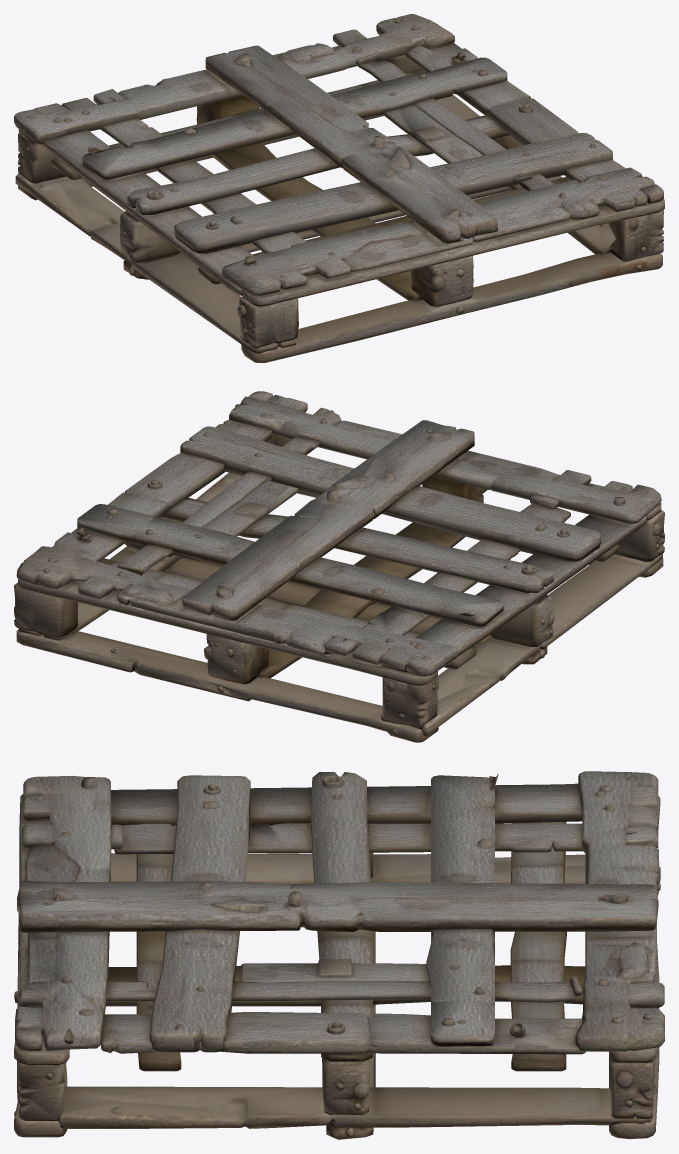
File: prop_pallet.glb
3 views of the same model, one above another, from view 1: azimuth 30°, elevation 25°; view 2: azimuth 150°, elevation 25°; view 3: azimuth 270°, elevation 25° (orthographic). The views are drawn at different scales.
Parts seen in each view (by area): view 1: tripo_node_0fa60221-b76e-457f-955f-115cdb6f22b1; view 2: tripo_node_0fa60221-b76e-457f-955f-115cdb6f22b1; view 3: tripo_node_0fa60221-b76e-457f-955f-115cdb6f22b1.
Boxes of the visible parts, left/top/right/bottom form: tripo_node_0fa60221-b76e-457f-955f-115cdb6f22b1: left=14, top=14, right=664, bottom=362; tripo_node_0fa60221-b76e-457f-955f-115cdb6f22b1: left=14, top=391, right=664, bottom=742; tripo_node_0fa60221-b76e-457f-955f-115cdb6f22b1: left=14, top=771, right=664, bottom=1139.
Size of the model in its own units: 1.18 by 0.2691 by 1.2.
Materials: 1 (1 with a texture image).
